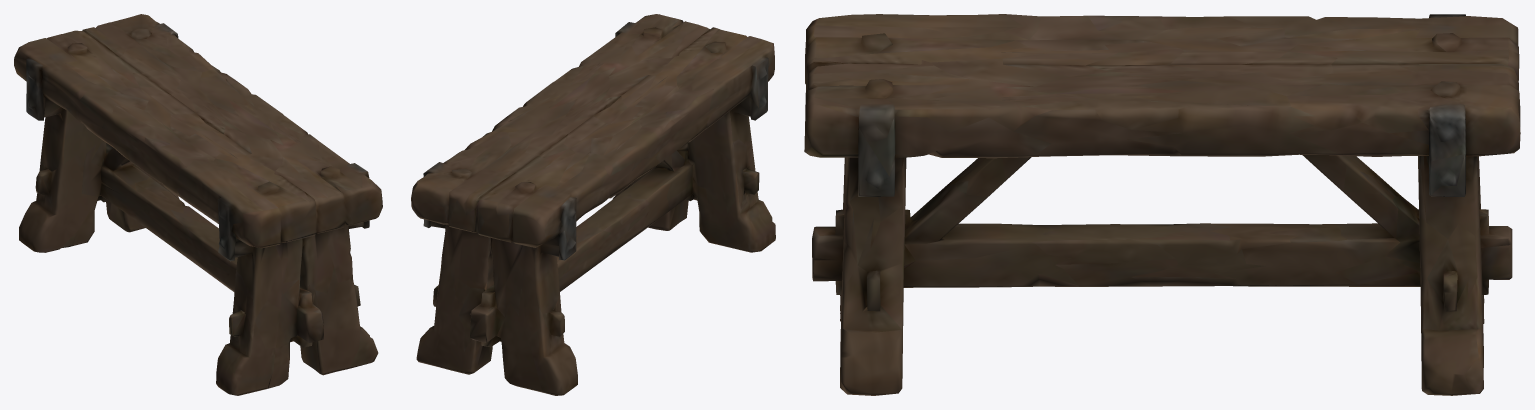
Rendered from heavy-bench.glb.
The picture shows the model from 3 angles, left to right: view 1: azimuth 30°, elevation 25°; view 2: azimuth 150°, elevation 25°; view 3: azimuth 270°, elevation 25°; orthographic projection. The views are drawn at different scales.
Parts seen in each view (by area): view 1: tripo_node_552fc1a5-f2d6-4430-9a64-f83026c364bc; view 2: tripo_node_552fc1a5-f2d6-4430-9a64-f83026c364bc; view 3: tripo_node_552fc1a5-f2d6-4430-9a64-f83026c364bc.
Boxes of the visible parts, left/top/right/bottom form: tripo_node_552fc1a5-f2d6-4430-9a64-f83026c364bc: left=14, top=14, right=382, bottom=395; tripo_node_552fc1a5-f2d6-4430-9a64-f83026c364bc: left=411, top=14, right=775, bottom=395; tripo_node_552fc1a5-f2d6-4430-9a64-f83026c364bc: left=804, top=14, right=1520, bottom=395.
Bounding box in the file's own units: 0.3597 × 0.4419 × 1.
1 material, 1 textured.
